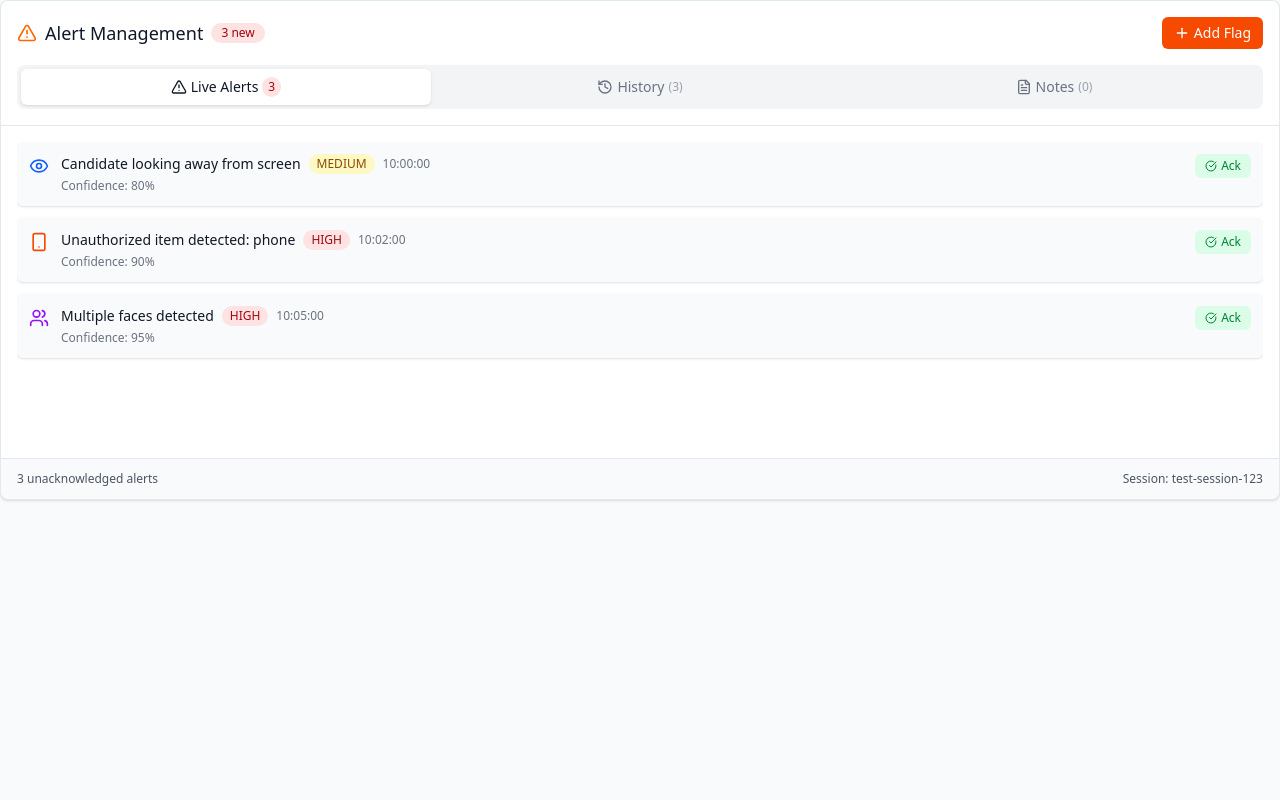
Test: AlertManagementPanel › Tab Navigation › switches to history view when history tab is clicked
The width and height of the screenshot is (1280, 800).
Click the text "History" at (641, 87), box [617,77,664,97]
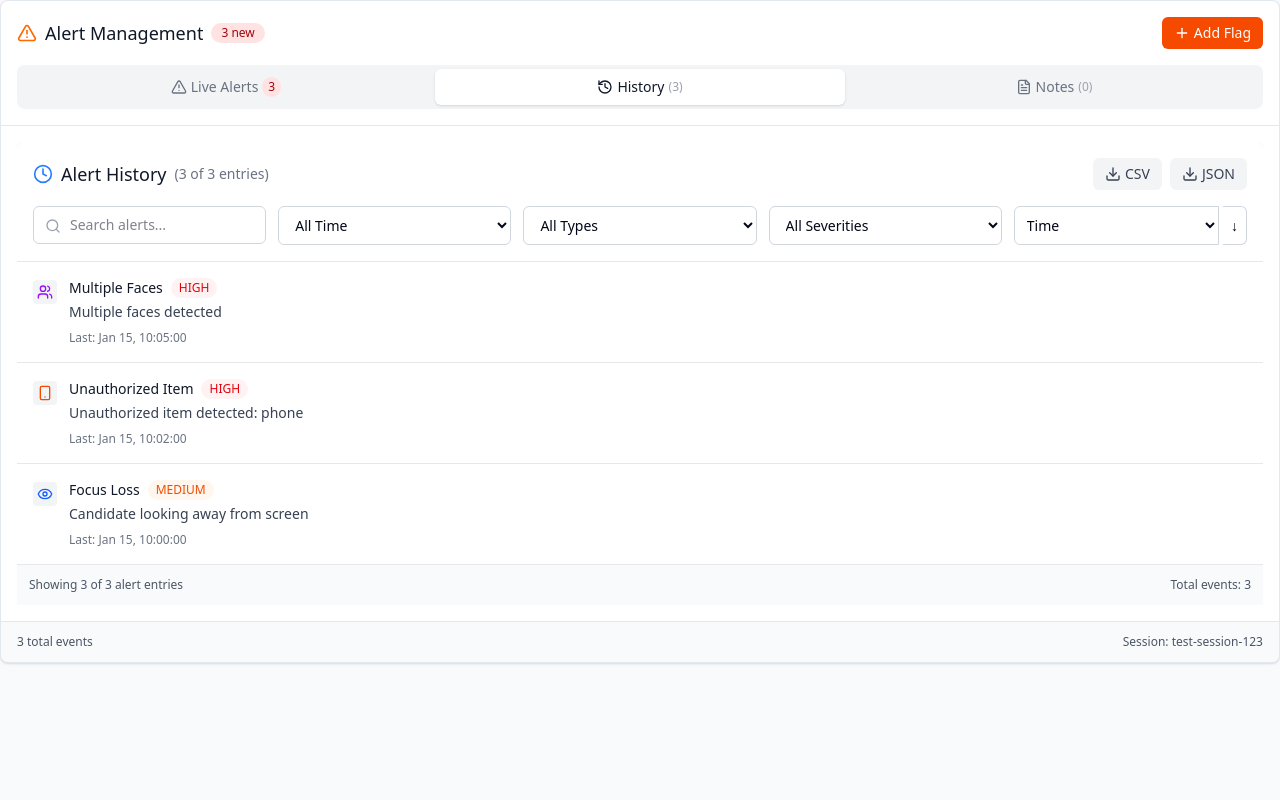
expect the heading "Alert History" is shown: met, box [61,160,166,188]
